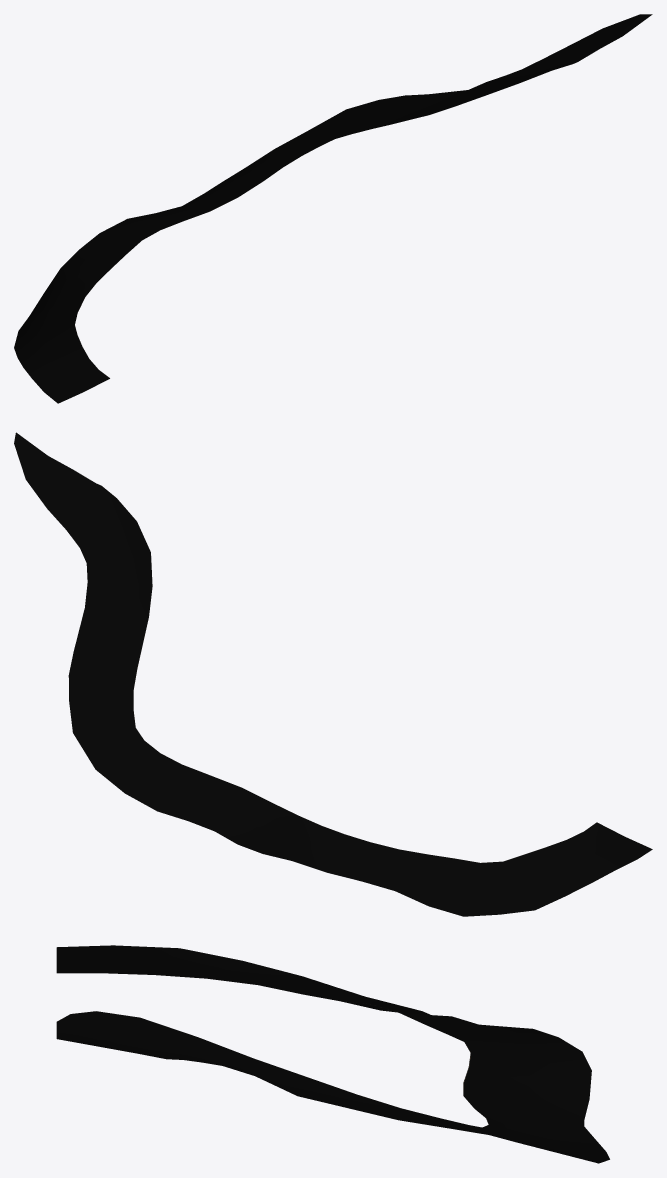
The model's file is Tide_GenerateSurfaceDecal_F9ED13CF_0_FlowDecal_SmallMesh_Mesh_x9_y6_150_0_ATLAS.fbx.
The picture shows the model from 3 angles, top to bottom: view 1: azimuth 30°, elevation 25°; view 2: azimuth 150°, elevation 25°; view 3: azimuth 270°, elevation 25°; orthographic projection. The views are drawn at different scales.
Visible parts, largest first — view 1: Tide_GenerateSurfaceDecal_F9ED13CF_0_FlowDecal_SmallMesh_Mes; view 2: Tide_GenerateSurfaceDecal_F9ED13CF_0_FlowDecal_SmallMesh_Mes; view 3: Tide_GenerateSurfaceDecal_F9ED13CF_0_FlowDecal_SmallMesh_Mes.
Part boxes in pixels (x1,y1,x2,y2): Tide_GenerateSurfaceDecal_F9ED13CF_0_FlowDecal_SmallMesh_Mes: (14, 14, 652, 403); Tide_GenerateSurfaceDecal_F9ED13CF_0_FlowDecal_SmallMesh_Mes: (14, 432, 652, 916); Tide_GenerateSurfaceDecal_F9ED13CF_0_FlowDecal_SmallMesh_Mes: (56, 945, 609, 1163).
Bounding box in the file's own units: 2269 × 914 × 922.
